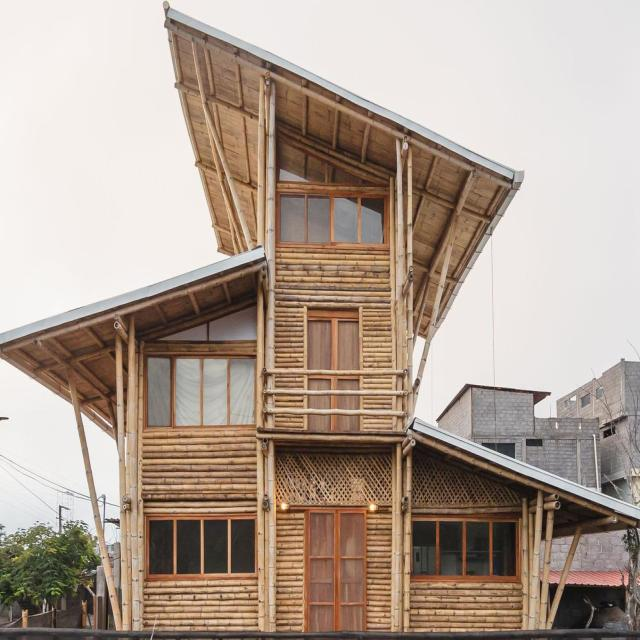door: (304, 506, 368, 639), (305, 313, 363, 430)
window: (278, 132, 390, 249), (144, 351, 256, 427), (408, 513, 522, 581), (146, 516, 258, 583)
